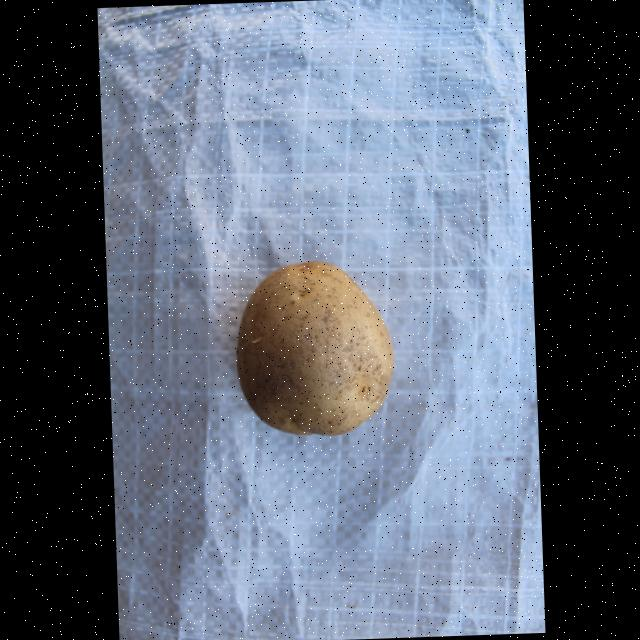Diseased-fungal potato: (222, 252, 404, 444)
